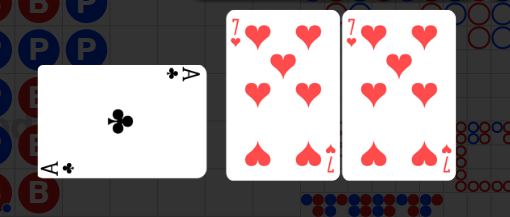7H: (229, 17, 242, 49), (346, 17, 359, 48)
AC: (40, 158, 78, 177)
